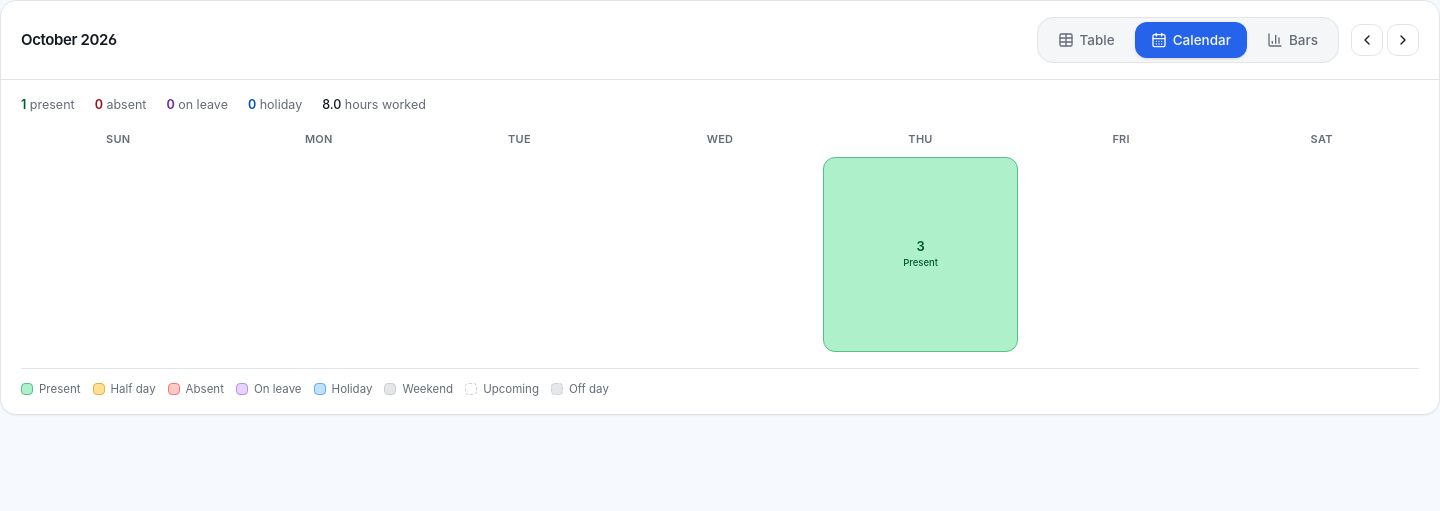
Test: the month is shared by all three views › moves every view when the month changes
Click the button named "Previous month" at (1367, 40), box [1351,24,1383,56]
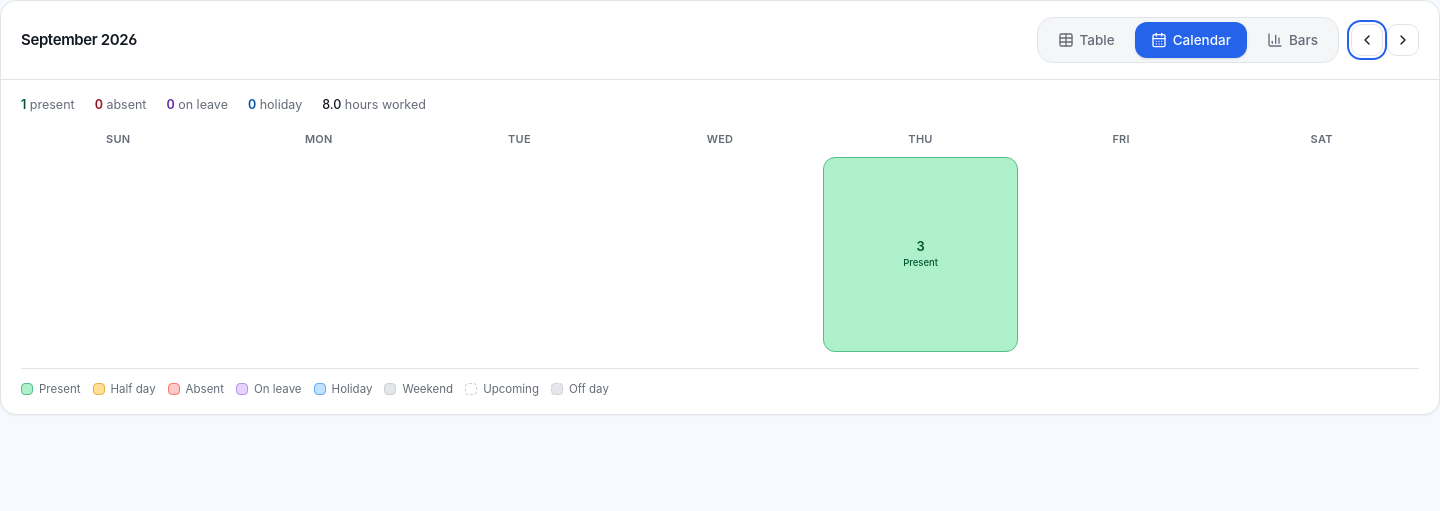
// Switching view must not re-ask for a different month.
Click the button "Bars" at (1292, 40), box [1251,22,1334,58]
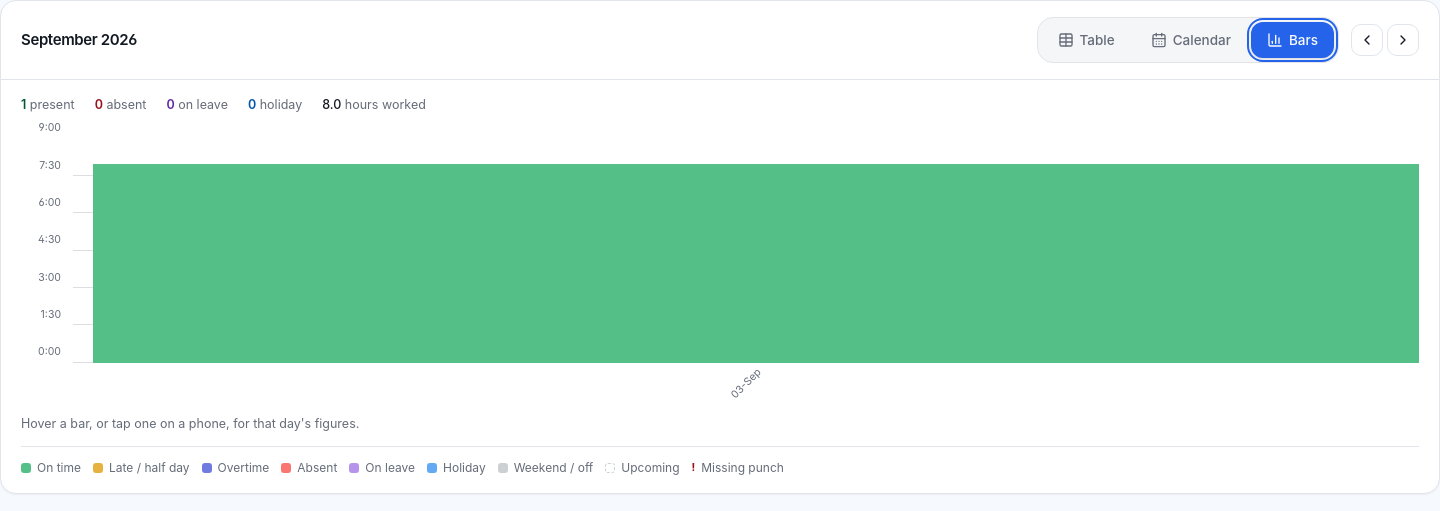
Expected: the list named "Worked hours per day for Abdul Rehman" is shown, [93,139,1419,363]
Click the button "Table" at (1086, 40), box [1042,22,1131,58]
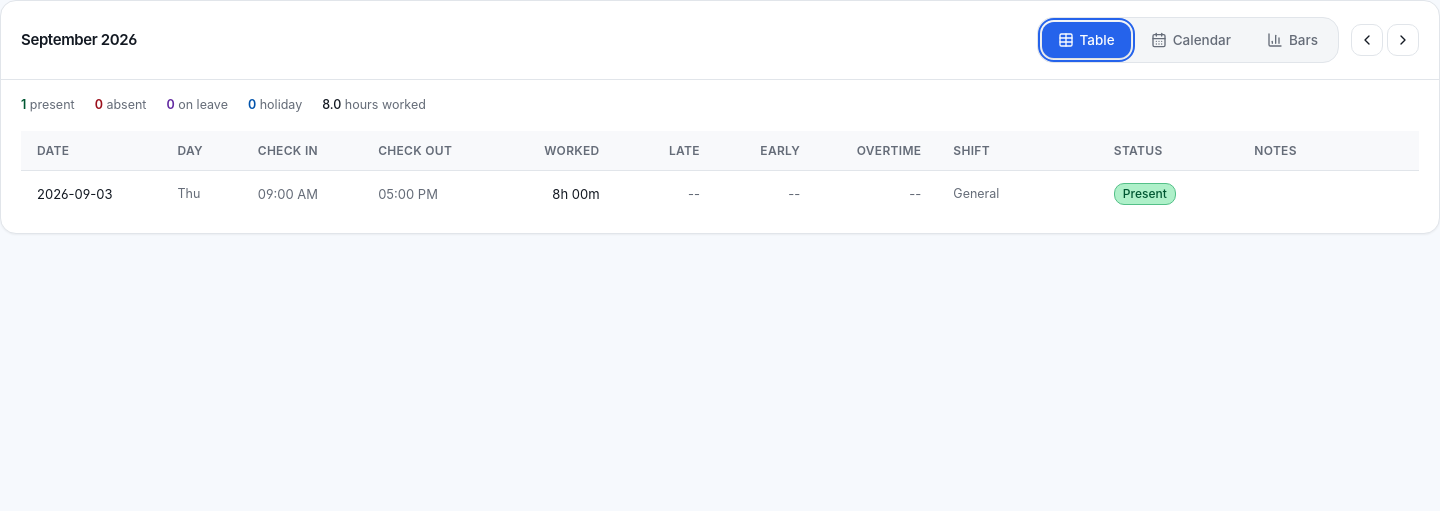
Expected: the column heading "Worked" is shown, [495,131,616,171]
